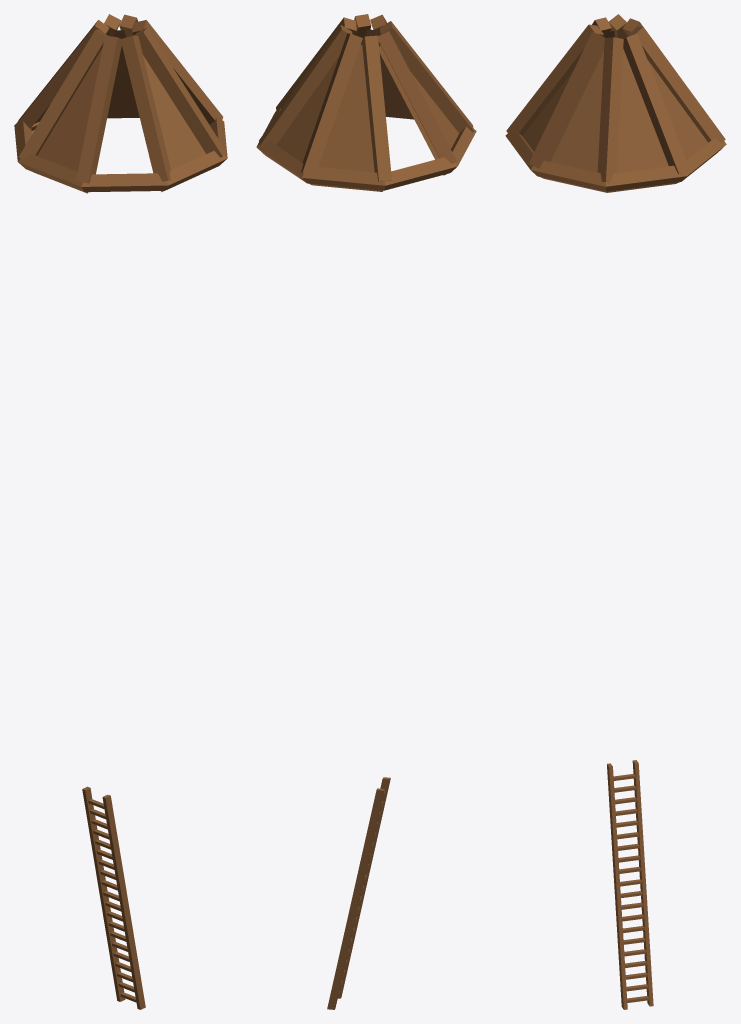
3 renders of one model, left to right at view 1: azimuth 30°, elevation 25°; view 2: azimuth 150°, elevation 25°; view 3: azimuth 270°, elevation 25°, orthographic. The views are drawn at different scales.
Visible parts, largest first — view 1: Object143_brown_0, Object141_brown_0, Object142_brown_0, Box416_brown_0; view 2: Object143_brown_0, Object141_brown_0, Object142_brown_0, Box416_brown_0; view 3: Object143_brown_0, Object141_brown_0, Object142_brown_0, Box416_brown_0.
Part boxes in pixels (x1,y1,x2,y2): Object143_brown_0: (15, 14, 226, 183); Object141_brown_0: (31, 30, 205, 193); Object142_brown_0: (14, 118, 227, 192); Box416_brown_0: (82, 786, 145, 1009); Object143_brown_0: (259, 14, 473, 181); Object141_brown_0: (276, 29, 458, 191); Object142_brown_0: (256, 108, 476, 190); Box416_brown_0: (327, 777, 390, 1009); Object143_brown_0: (506, 14, 725, 182); Object141_brown_0: (522, 31, 708, 192); Object142_brown_0: (505, 130, 726, 191); Box416_brown_0: (607, 760, 653, 1009).
Bounding box in the file's own units: 452 × 2184 × 452.
